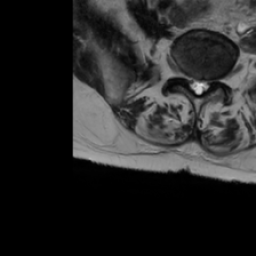CCS_stenosis: (196, 70, 203, 102)
LFS_severe_stenosis: (211, 68, 219, 91)
LLS_normal: (203, 70, 211, 97)
RFS_stenosis: (181, 63, 189, 89)
RLS_normal: (188, 68, 196, 96)
